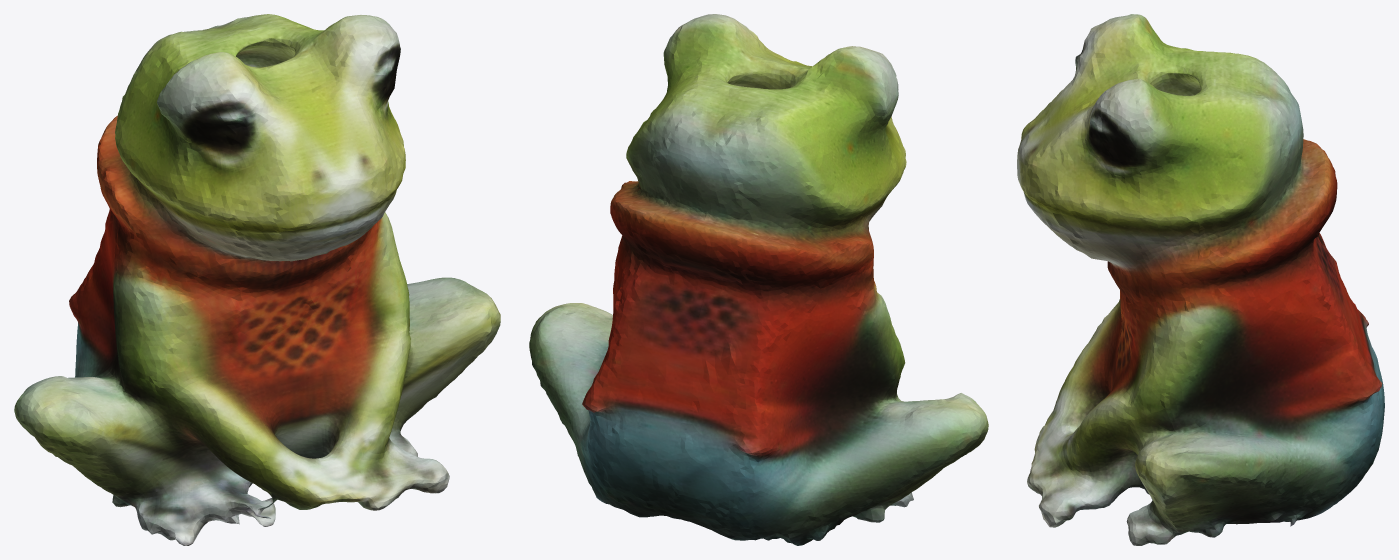
The model's file is frog_sweater_rgba.glb.
3 views of the same model, side by side, from view 1: azimuth 30°, elevation 25°; view 2: azimuth 150°, elevation 25°; view 3: azimuth 270°, elevation 25° (orthographic). The views are drawn at different scales.
Size of the model in its own units: 0.9991 by 0.9613 by 0.7214.
Materials: 1 (1 with a texture image).
